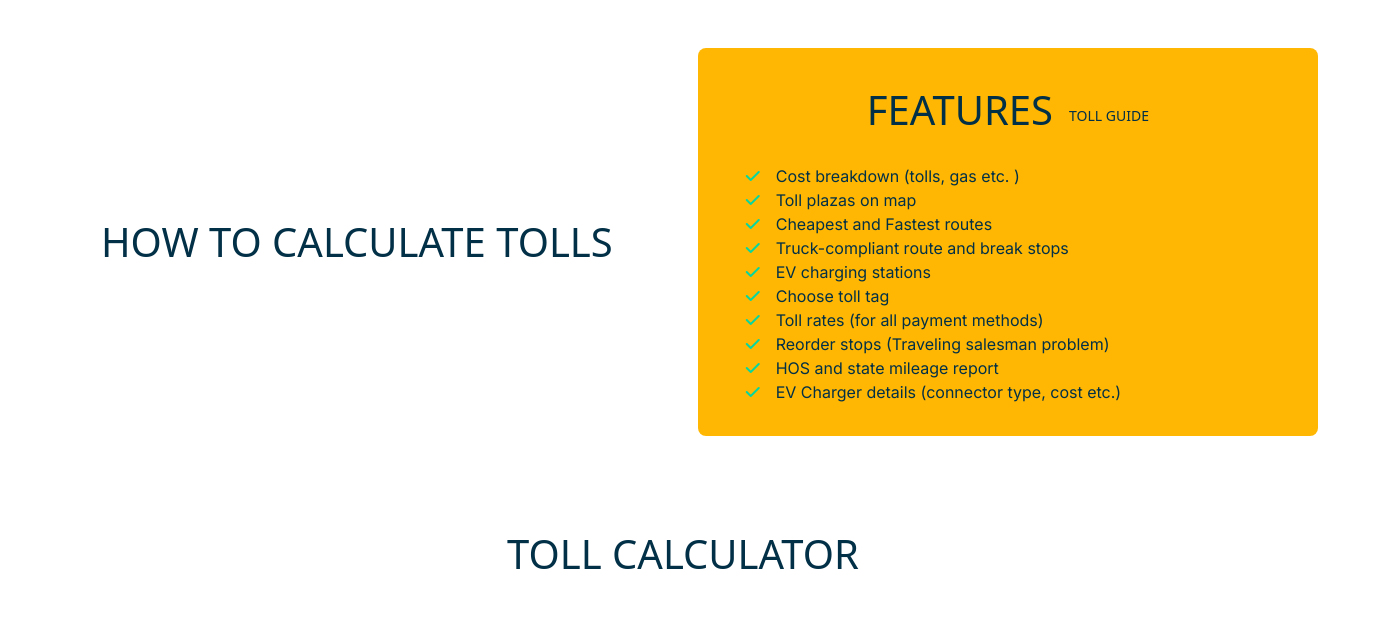
Scenario: Switch Between Features And Guide › Switch from Guide to Features
Step 1. Click the button "toll guide" → (1109, 106), box [1069,80,1149,132]
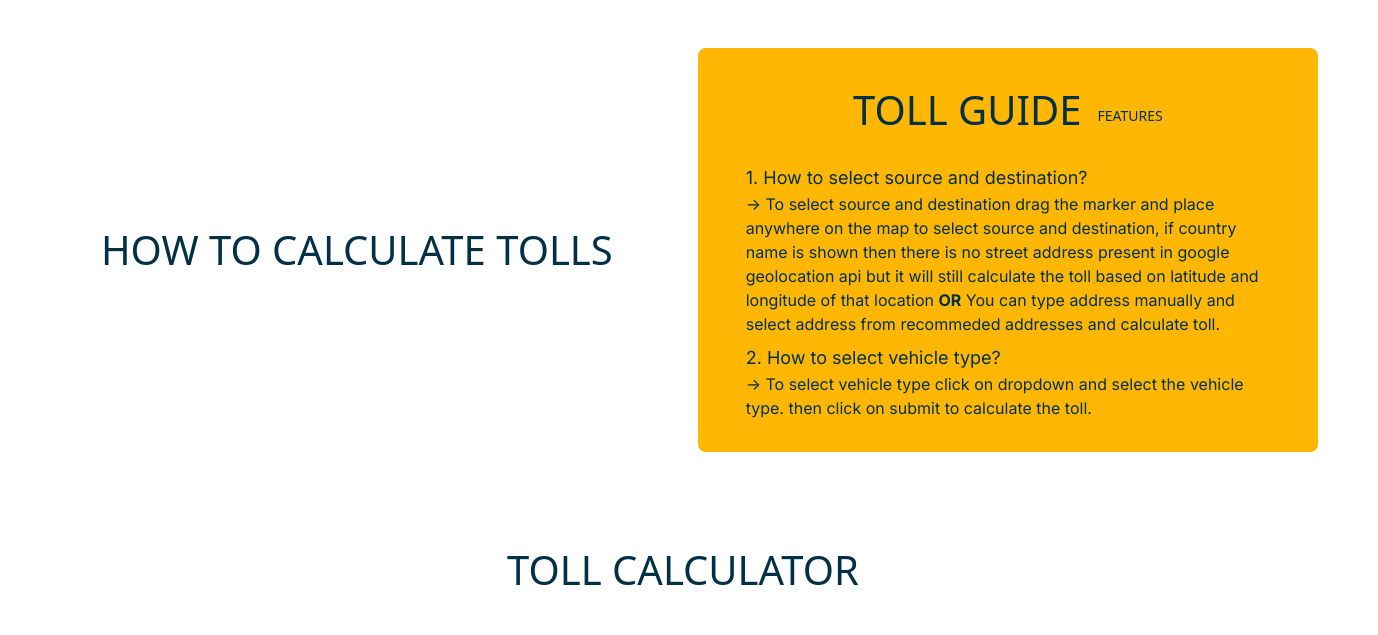
Step 2. Click the button "Features" → (1130, 119), box [1097,106,1162,132]
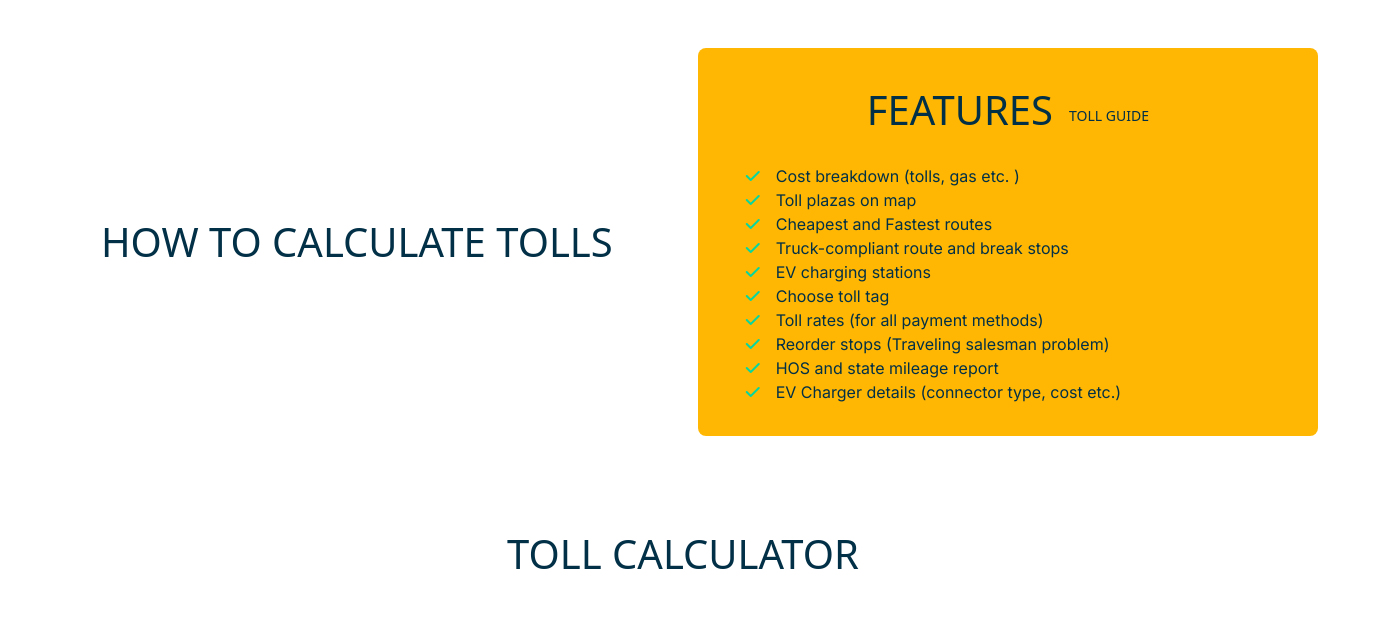
Expected: the element with id "features" is shown, [698,48,1318,436]
